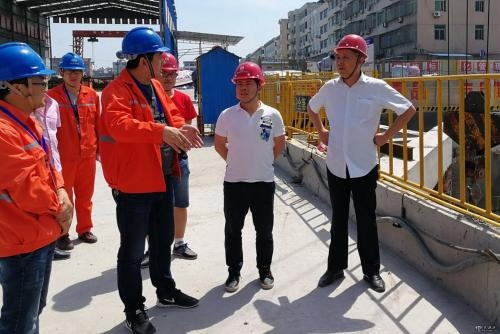blue: (2, 42, 49, 111), (119, 24, 164, 78), (57, 50, 88, 87)
red: (333, 33, 367, 79), (231, 60, 266, 104), (157, 52, 180, 91)
